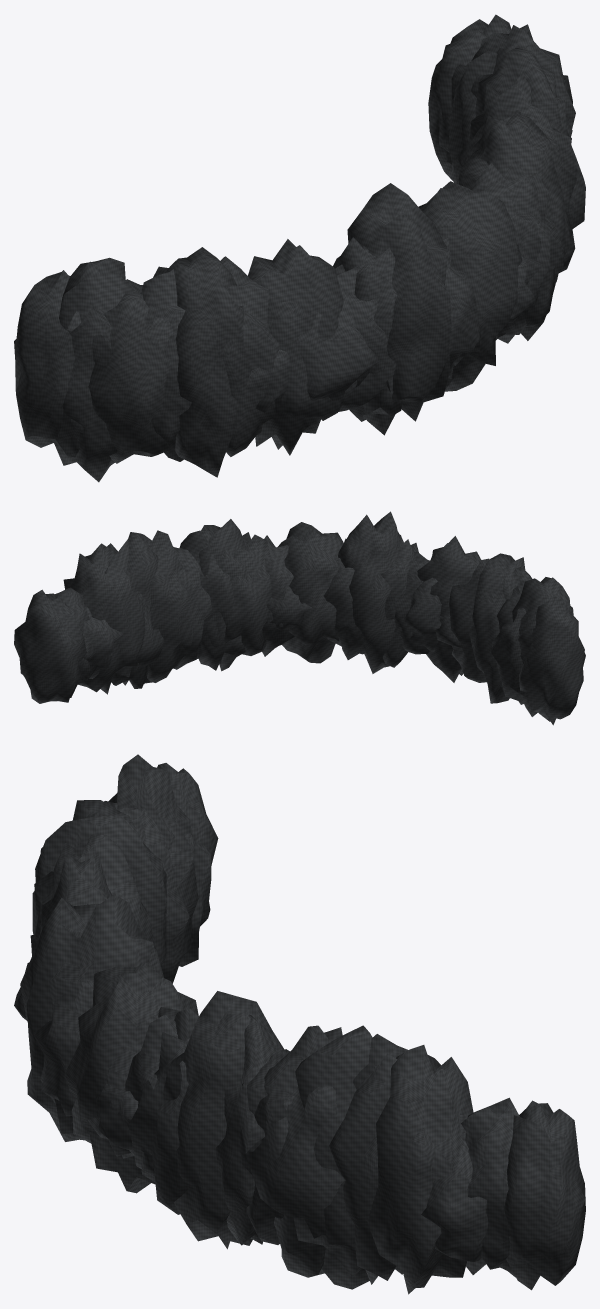
Rendered from Landscape_Basalt_3.fbx.
The picture shows the model from 3 angles, top to bottom: view 1: azimuth 30°, elevation 25°; view 2: azimuth 150°, elevation 25°; view 3: azimuth 270°, elevation 25°; orthographic projection. The views are drawn at different scales.
Parts seen in each view (by area): view 1: Landscape_Basalt_3; view 2: Landscape_Basalt_3; view 3: Landscape_Basalt_3.
Boxes of the visible parts, box(x1,y1,x2,y2) form: Landscape_Basalt_3: box(14, 14, 585, 482); Landscape_Basalt_3: box(14, 511, 585, 725); Landscape_Basalt_3: box(14, 754, 585, 1294).
Size of the model in its own units: 109797 by 37232 by 72240.
Materials: 1 (1 with a texture image).
